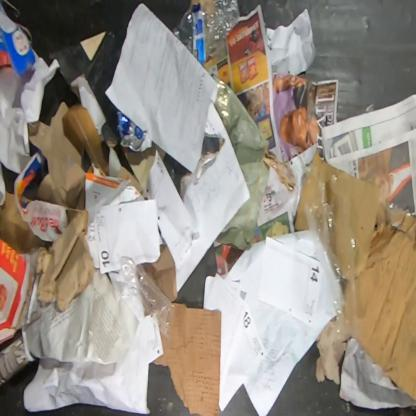cardboard: (311, 148, 415, 403), (28, 101, 96, 314), (151, 302, 222, 415), (0, 238, 38, 344), (61, 104, 108, 171), (0, 1, 37, 77), (0, 194, 45, 255), (141, 243, 177, 301)
metal: (116, 110, 152, 152)
rigid_plastic: (172, 0, 240, 64)
soft_plastic: (272, 88, 358, 340), (210, 72, 271, 250), (113, 255, 172, 339)
